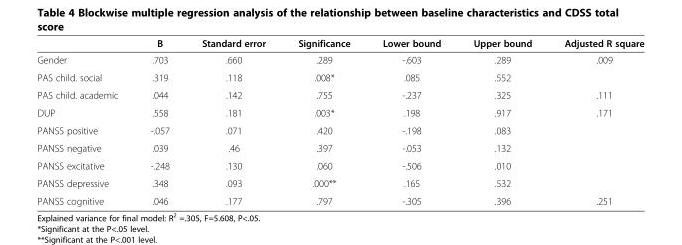table: (36, 37, 643, 206)
table column: (36, 37, 133, 206), (185, 37, 281, 206), (547, 37, 643, 206), (365, 37, 456, 206), (456, 37, 547, 206), (281, 37, 365, 206), (133, 37, 185, 206)
table column header: (36, 37, 643, 51)
table row: (36, 85, 643, 103), (36, 103, 643, 121), (36, 138, 643, 156), (36, 156, 643, 174), (36, 51, 643, 68), (36, 68, 643, 85), (36, 121, 643, 138), (36, 174, 643, 191), (36, 191, 643, 206), (36, 37, 643, 51)
